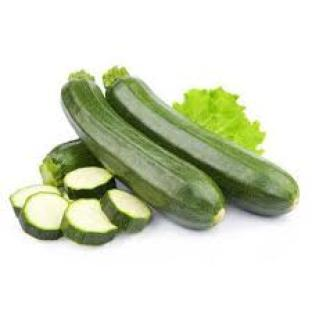Zucchini: (106, 77, 299, 216), (62, 81, 224, 228), (41, 141, 101, 187), (62, 200, 117, 245), (20, 193, 67, 239), (102, 189, 151, 232), (64, 167, 115, 199), (10, 185, 61, 216)
